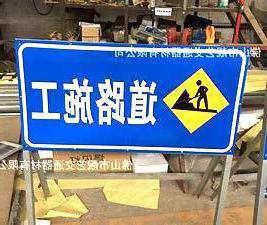sign: (16, 40, 248, 154)
